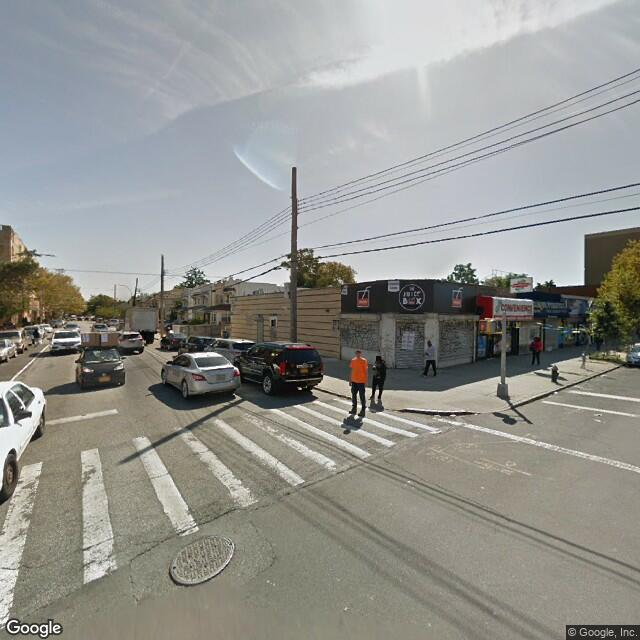litter: (342, 604, 351, 615), (405, 479, 413, 488), (592, 419, 603, 425), (594, 412, 604, 417), (551, 389, 561, 394)
